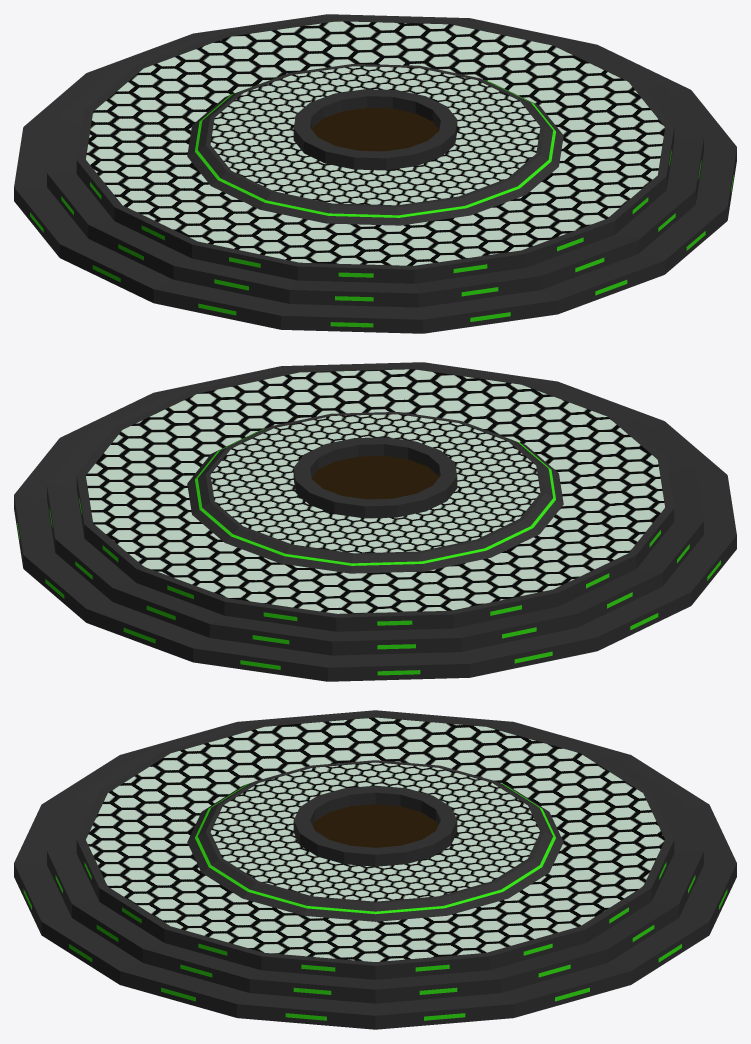
Rendered from tree-base.fbx.
The picture shows the model from 3 angles, top to bottom: view 1: azimuth 30°, elevation 25°; view 2: azimuth 150°, elevation 25°; view 3: azimuth 270°, elevation 25°; orthographic projection.
Visible parts, largest first — view 1: Cylinder.005; view 2: Cylinder.005; view 3: Cylinder.005.
Part boxes in pixels (x1,y1,x2,y2): Cylinder.005: (14,14,736,333); Cylinder.005: (14,362,736,681); Cylinder.005: (14,710,736,1029).
Bounding box in the file's own units: 1552 × 134 × 1552.
